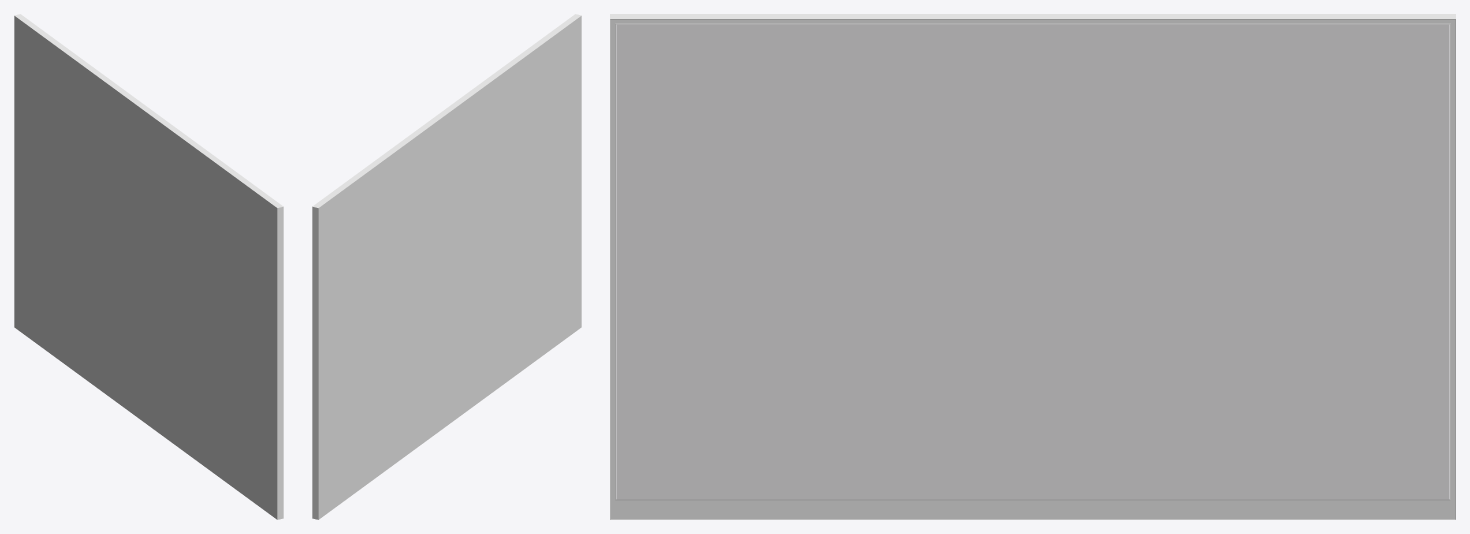
The picture shows the model from 3 angles, left to right: view 1: azimuth 30°, elevation 25°; view 2: azimuth 150°, elevation 25°; view 3: azimuth 270°, elevation 25°; orthographic projection. The views are drawn at different scales.
Parts seen in each view (by area): view 1: TvBevel; view 2: TvBevel; view 3: TvScreen, TvBevel.
Part boxes in pixels (x1=…): TvBevel: x1=14, y1=14, x2=283, y2=519; TvBevel: x1=312, y1=14, x2=581, y2=519; TvScreen: x1=616, y1=24, x2=1449, y2=499; TvBevel: x1=610, y1=14, x2=1455, y2=519.
Bounding box in the file's own units: 0.0155 × 0.7335 × 1.12.
1 material, 1 textured.
